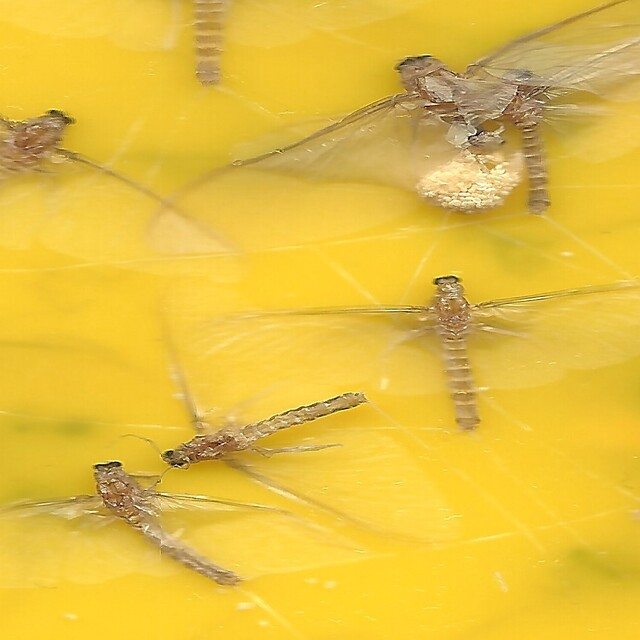Ephemeroptera: (392, 52, 555, 215), (85, 460, 239, 588), (163, 389, 369, 468), (423, 276, 490, 432)
